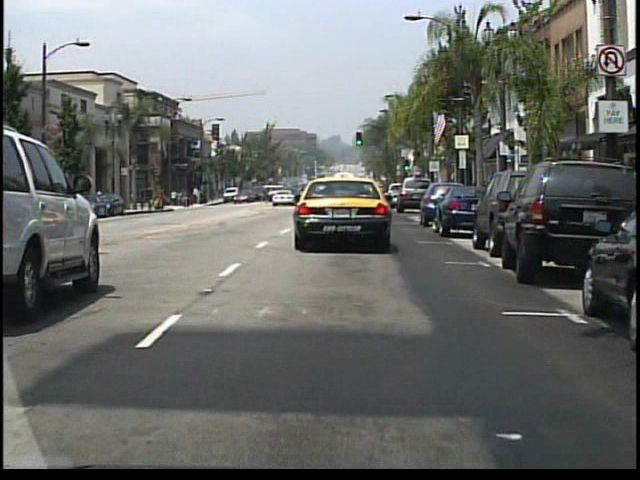person: (193, 189, 201, 209)
